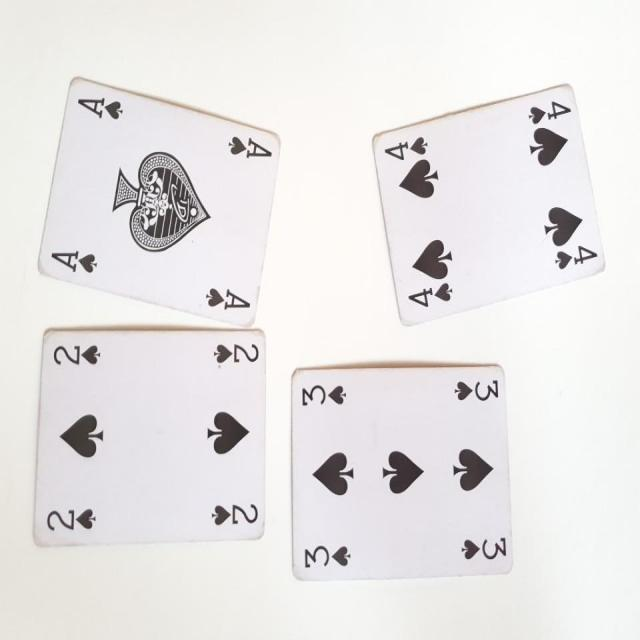2 Spades: (33, 324, 268, 548)
3 Spades: (291, 367, 512, 578)
4 Spades: (371, 82, 601, 329)
A Spades: (29, 78, 284, 324)
